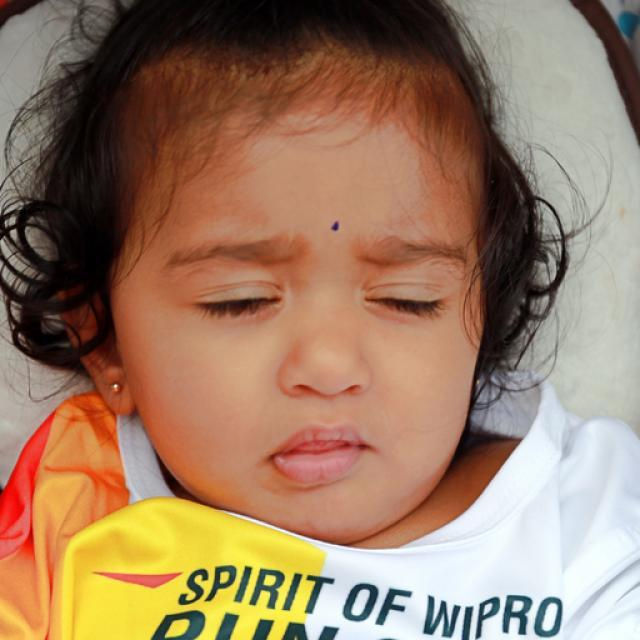sad: (119, 68, 485, 540)
